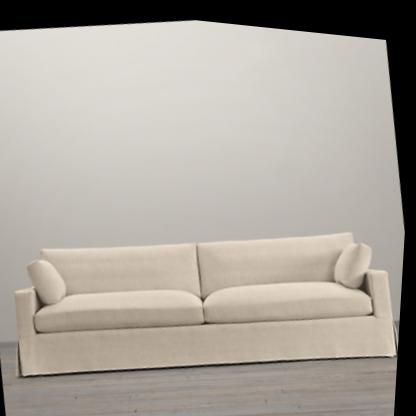Sofa: (4, 188, 407, 406)
